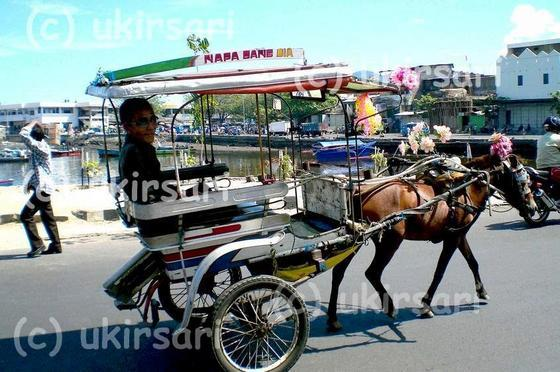horse: (323, 150, 539, 333)
